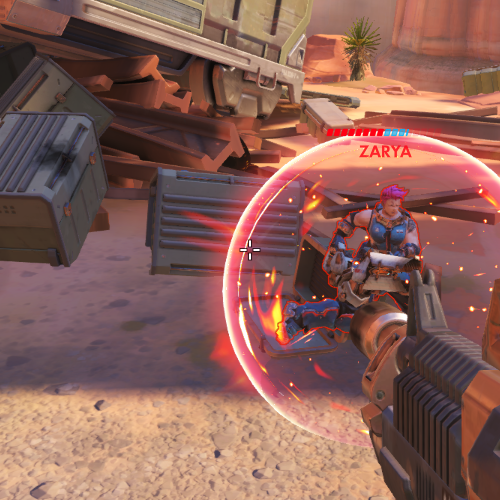hpbar: (326, 127, 443, 138)
